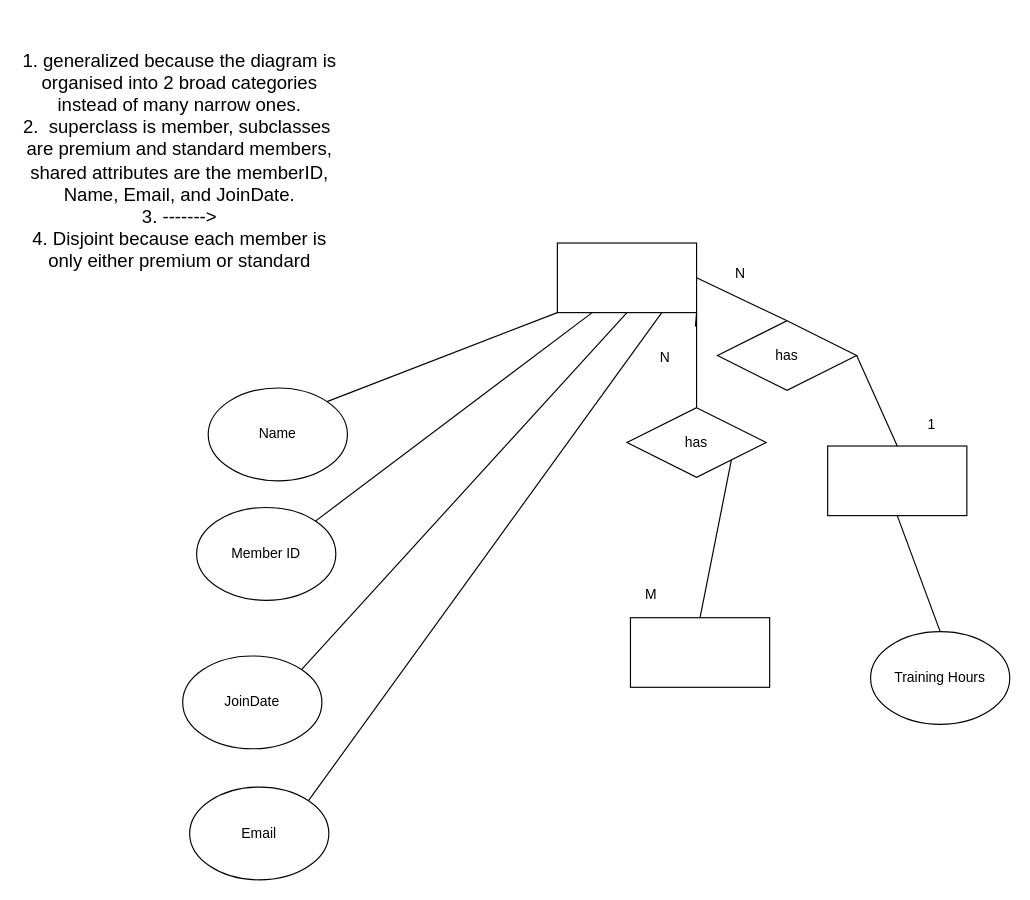
This 1030x900 diagram has some shape labels left out. The centre of each missing label's shape, as x and y in pixels:
"Member" goes at (x=626, y=277).
"Premium" goes at (x=896, y=480).
"Standard" goes at (x=699, y=652).
